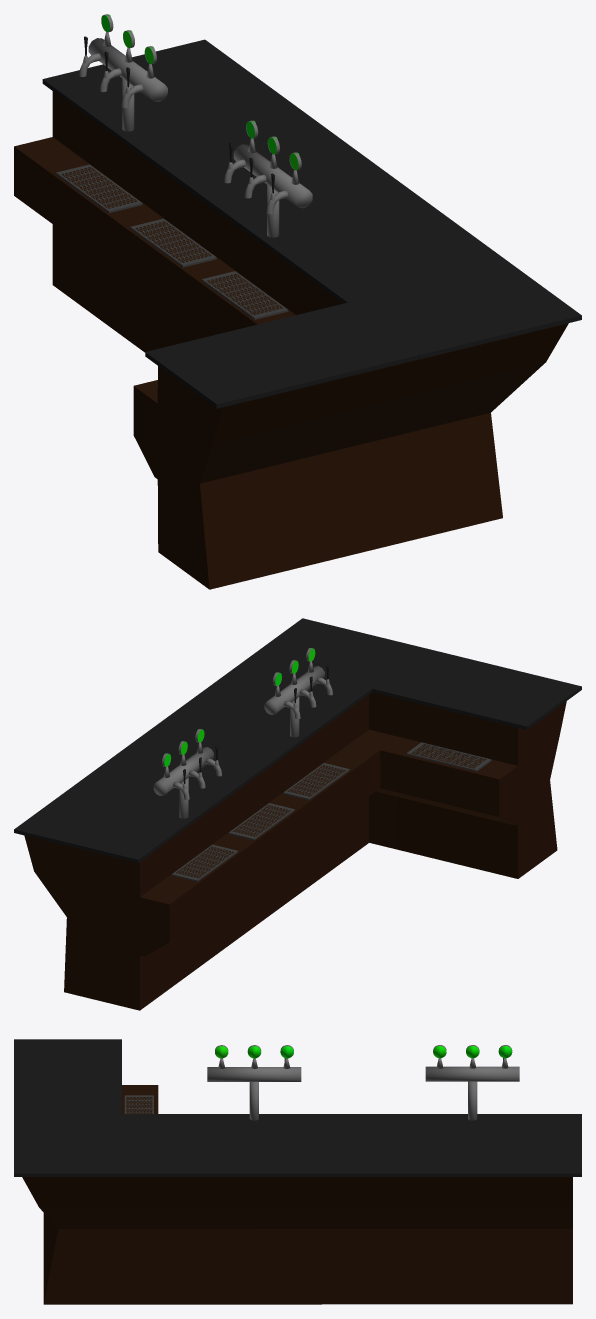
Rendered from BEEGBar.fbx.
The picture shows the model from 3 angles, top to bottom: view 1: azimuth 30°, elevation 25°; view 2: azimuth 150°, elevation 25°; view 3: azimuth 270°, elevation 25°; orthographic projection. The views are drawn at different scales.
Parts seen in each view (by area): view 1: Cube.001; view 2: Cube.001; view 3: Cube.001.
Boxes of the visible parts, bbox=[...] form: Cube.001: bbox=[14, 14, 581, 589]; Cube.001: bbox=[14, 618, 581, 1010]; Cube.001: bbox=[14, 1039, 581, 1304].
Size of the model in its own units: 270 by 212 by 483.
